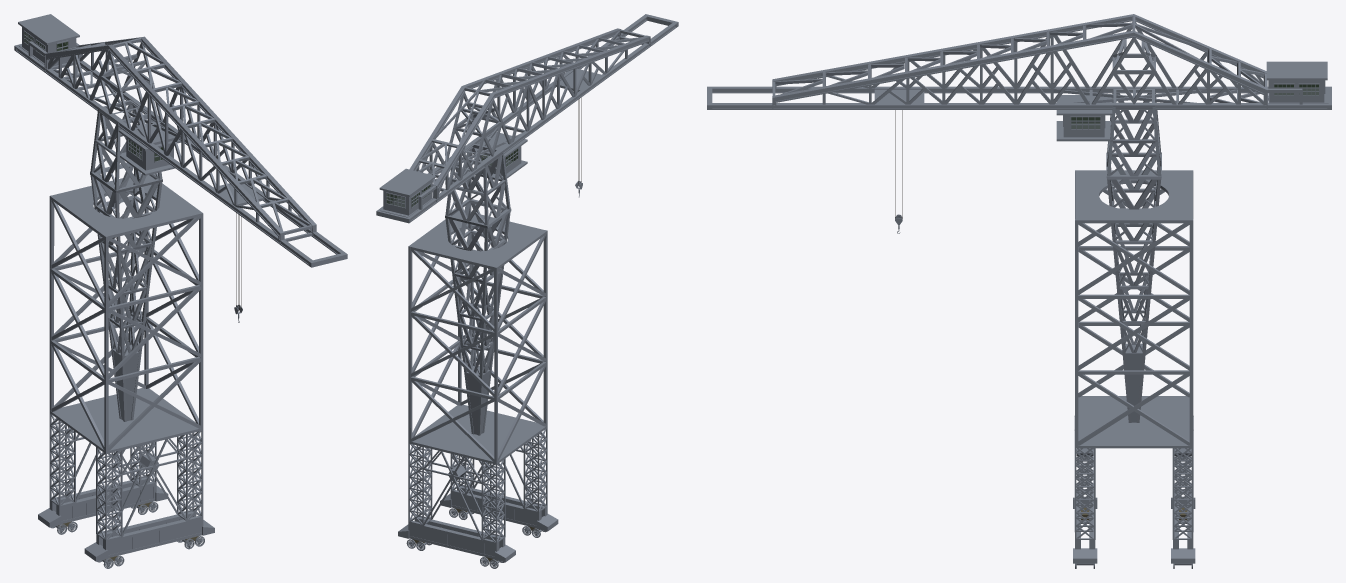
File: uploads_files_778970_type3+jib+crane.fbx
The picture shows the model from 3 angles, left to right: view 1: azimuth 30°, elevation 25°; view 2: azimuth 150°, elevation 25°; view 3: azimuth 270°, elevation 25°; orthographic projection. The views are drawn at different scales.
Parts seen in each view (by area): view 1: main, arm, pad; view 2: main, arm; view 3: arm, main.
Boxes of the visible parts, left/top/right/bottom form: main: left=38, top=173, right=214, bottom=568; arm: left=14, top=14, right=347, bottom=421; pad: left=234, top=213, right=242, bottom=322; main: left=398, top=211, right=558, bottom=568; arm: left=376, top=14, right=678, bottom=435; arm: left=707, top=14, right=1331, bottom=422; main: left=1073, top=170, right=1195, bottom=568.
Bounding box in the file's own units: 25000 × 99811 × 108351.
